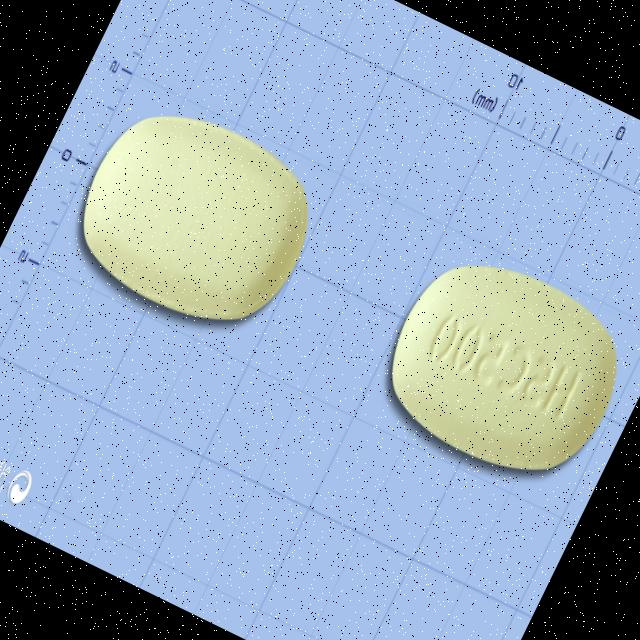Clithro: (55, 84, 338, 350), (362, 232, 640, 500)
